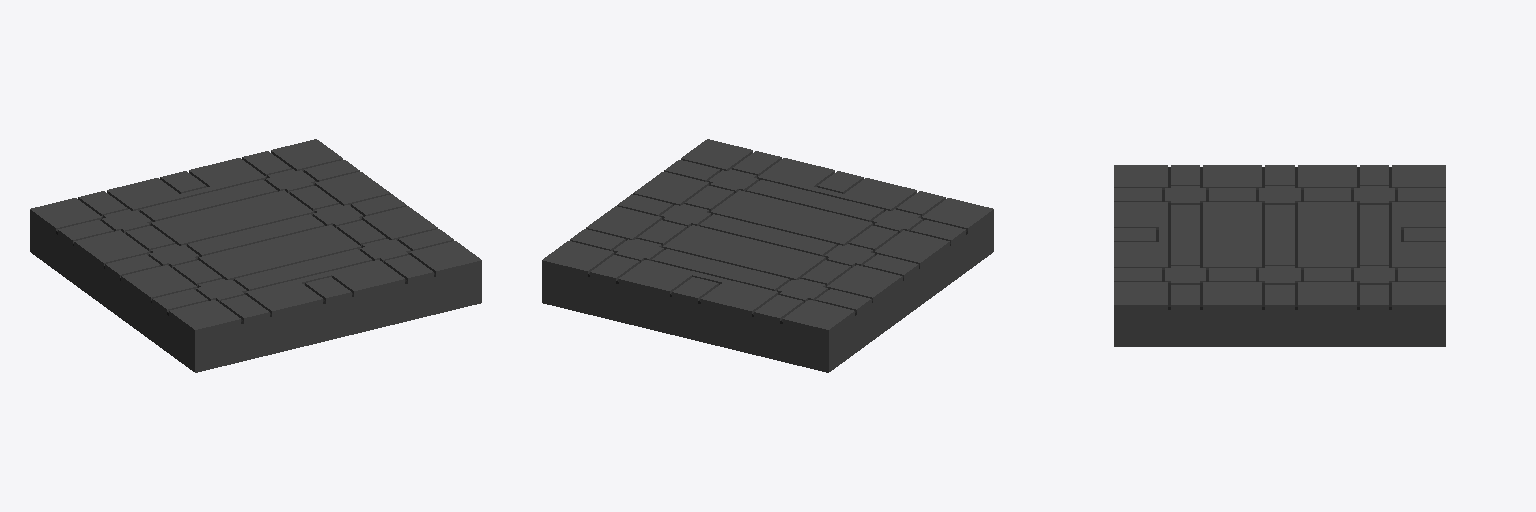
The picture shows the model from 3 angles: view 1: azimuth 30°, elevation 25°; view 2: azimuth 150°, elevation 25°; view 3: azimuth 270°, elevation 25°; orthographic projection.
Visible parts, largest first — view 1: Floor3; view 2: Floor3; view 3: Floor3.
Part boxes in pixels (bbox=[...]): Floor3: bbox=[30, 139, 481, 372]; Floor3: bbox=[542, 139, 993, 372]; Floor3: bbox=[1114, 165, 1445, 346].
Size of the model in its own units: 7.06 by 1.01 by 7.06.
Materials: 1 (1 with a texture image).